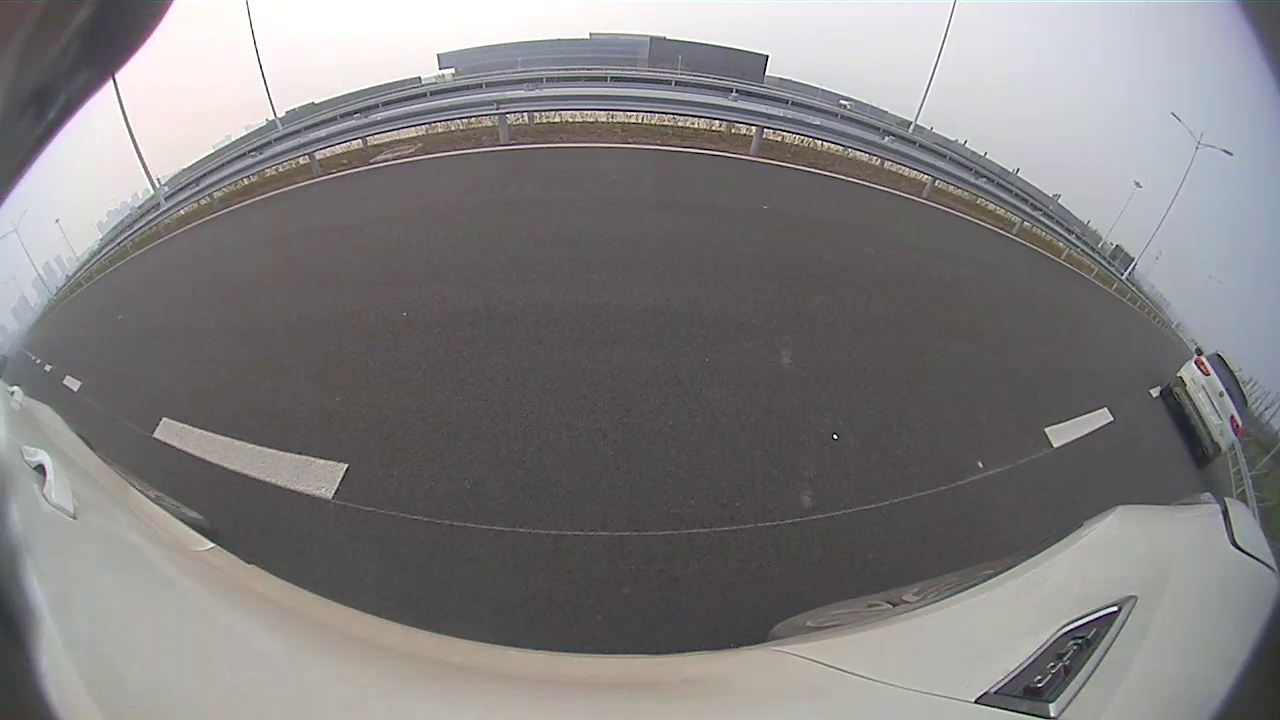car: (701, 45, 1152, 359)
front: (704, 176, 734, 236)
rear: (833, 206, 940, 346)
